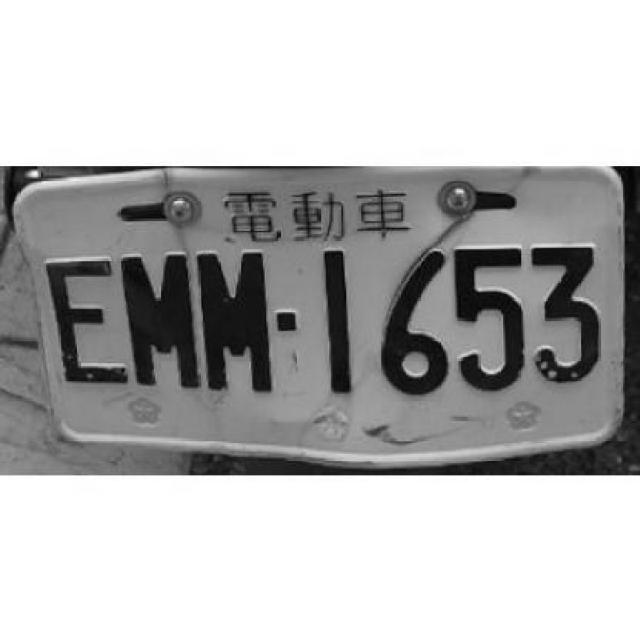-: (274, 308, 300, 332)
1: (318, 248, 354, 392)
3: (529, 242, 602, 388)
5: (451, 241, 526, 397)
6: (377, 242, 452, 398)
E: (40, 255, 129, 382)
M: (117, 248, 201, 390), (193, 246, 273, 393)
